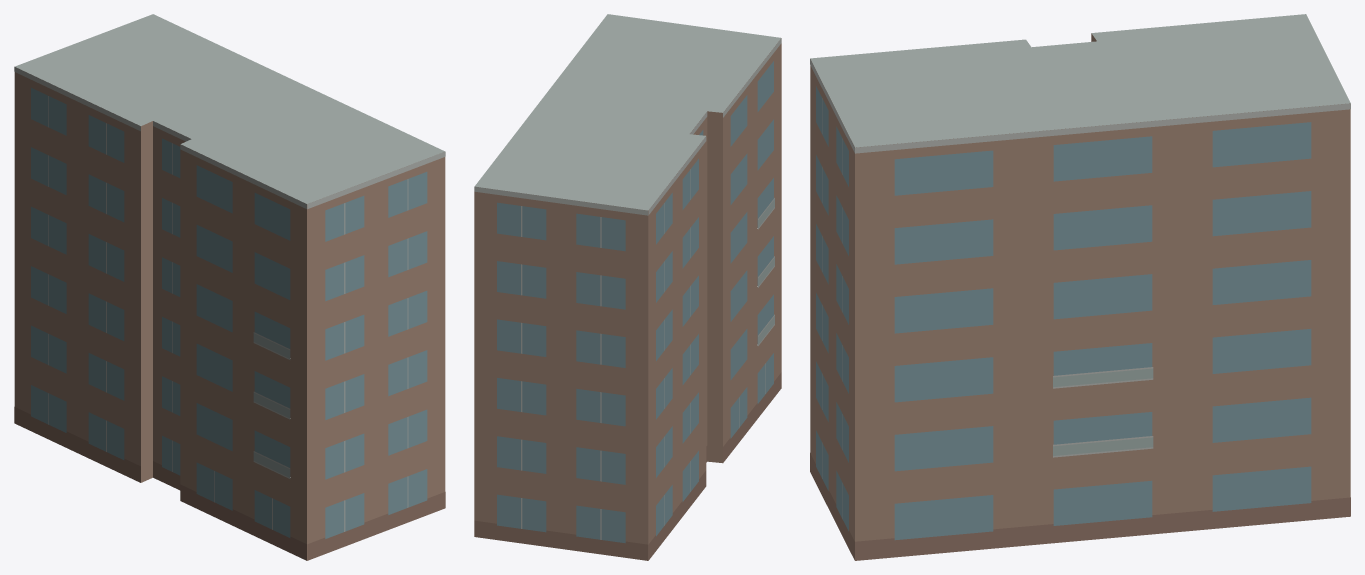
The model's file is survey-upis-32927326.glb.
The picture shows the model from 3 angles, left to right: view 1: azimuth 30°, elevation 25°; view 2: azimuth 150°, elevation 25°; view 3: azimuth 270°, elevation 25°; orthographic projection. The views are drawn at different scales.
Visible parts, largest first — view 1: survey-upis-32927326.tmp; view 2: survey-upis-32927326.tmp; view 3: survey-upis-32927326.tmp.
Boxes of the visible parts, <box> form: survey-upis-32927326.tmp: <box>14,14,445,560</box>; survey-upis-32927326.tmp: <box>474,14,781,560</box>; survey-upis-32927326.tmp: <box>810,14,1350,560</box>.
Bounding box in the file's own units: 11.58 × 16.7 × 19.81.
